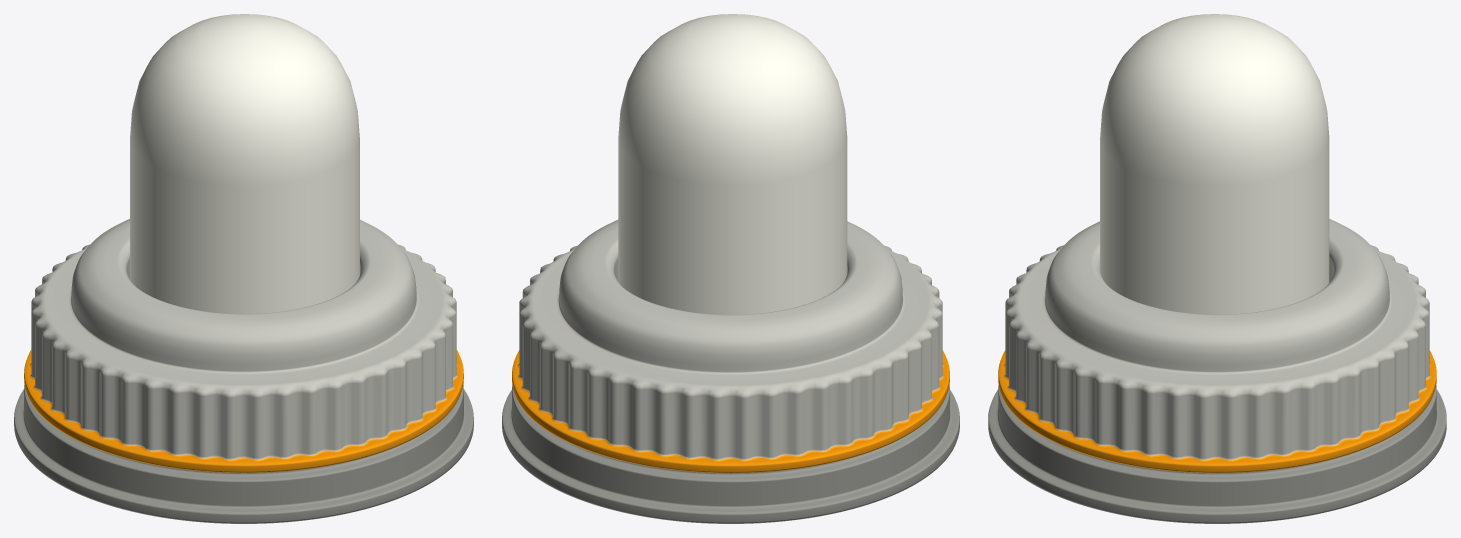
The model's file is Knnob #18.fbx.
3 views of the same model, side by side, from view 1: azimuth 30°, elevation 25°; view 2: azimuth 150°, elevation 25°; view 3: azimuth 270°, elevation 25° (orthographic).
Visible parts, largest first — view 1: kitbash_54; view 2: kitbash_54; view 3: kitbash_54.
Boxes of the visible parts, x1,y1,x2,y2 form: kitbash_54: [14, 14, 473, 523]; kitbash_54: [502, 14, 959, 523]; kitbash_54: [988, 14, 1446, 523].
Size of the model in its own units: 4.73 by 4.57 by 4.73.
